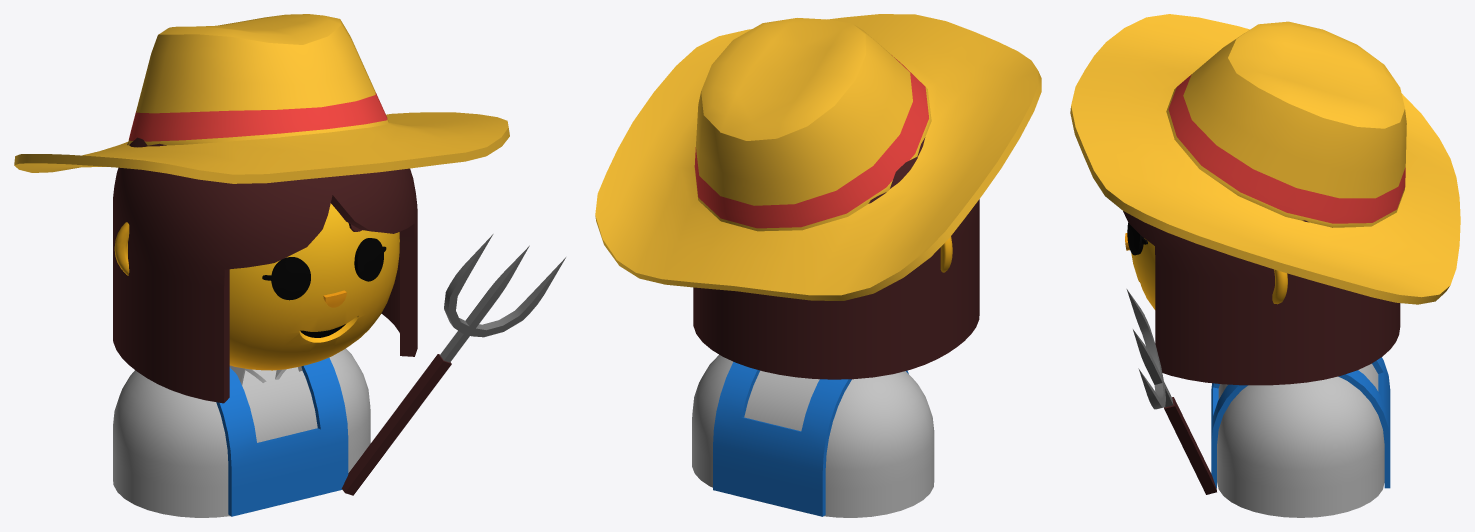
Rendered from woman_farmer.glb.
3 renders of one model, left to right at view 1: azimuth 30°, elevation 25°; view 2: azimuth 150°, elevation 25°; view 3: azimuth 270°, elevation 25°, orthographic. The views are drawn at different scales.
Parts seen in each view (by area): view 1: Plane.046, Roundcube.092, Sphere.050, Roundcube.091, Sphere.051, Circle.599, Circle.591; view 2: Plane.046, Roundcube.092, Sphere.050, Sphere.051; view 3: Plane.046, Roundcube.092, Sphere.050, Circle.599, Sphere.051, Roundcube.091.
Boxes of the visible parts, box(x1,y1,x2,y2) form: Plane.046: box(14, 14, 509, 183); Roundcube.092: box(113, 137, 417, 403); Sphere.050: box(113, 348, 370, 517); Roundcube.091: box(229, 203, 399, 370); Sphere.051: box(216, 357, 348, 516); Circle.599: box(341, 234, 565, 495); Circle.591: box(271, 238, 383, 300); Plane.046: box(595, 14, 1041, 300); Roundcube.092: box(693, 137, 979, 379); Sphere.050: box(692, 354, 934, 517); Sphere.051: box(713, 362, 908, 516); Plane.046: box(1070, 14, 1460, 304); Roundcube.092: box(1123, 211, 1400, 385); Sphere.050: box(1217, 363, 1384, 517); Circle.599: box(1126, 289, 1216, 494); Sphere.051: box(1211, 357, 1390, 488); Roundcube.091: box(1131, 238, 1155, 309).
Size of the model in its own units: 2.28 by 2.36 by 1.95.
2 materials, 2 textured.
